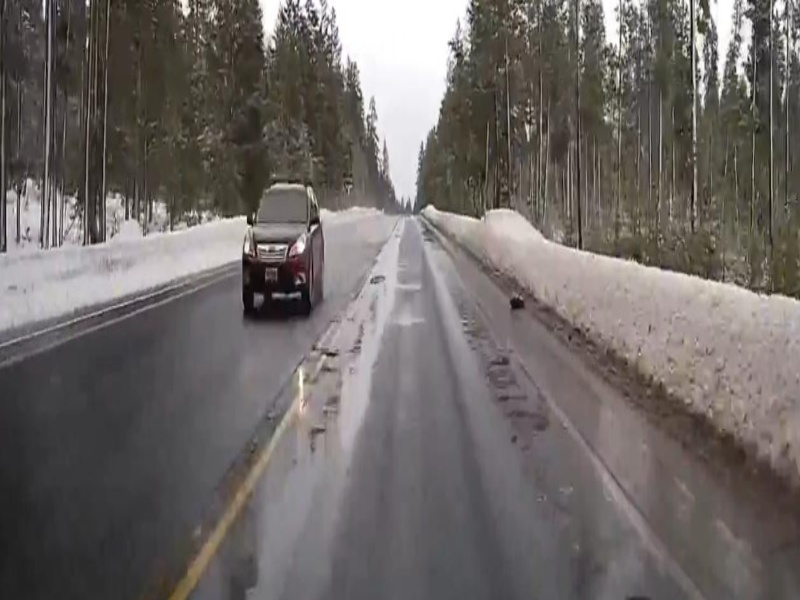pothole: (478, 356, 524, 407)
